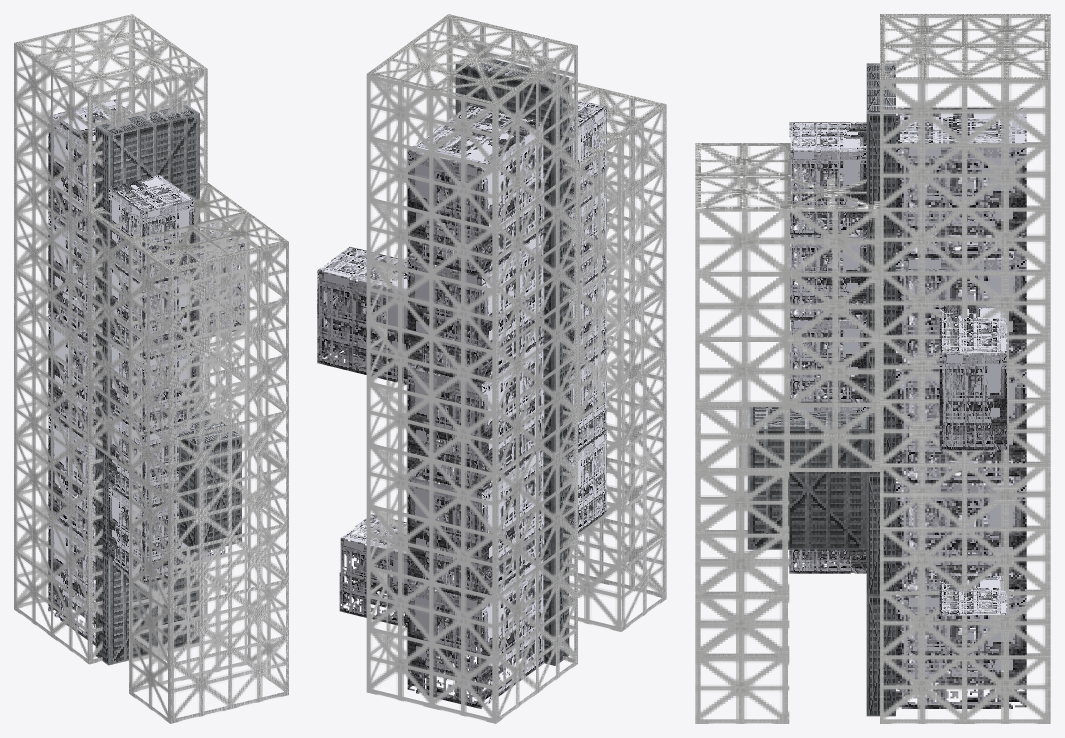
The model's file is uvmd-0138.glb.
The picture shows the model from 3 angles, left to right: view 1: azimuth 30°, elevation 25°; view 2: azimuth 150°, elevation 25°; view 3: azimuth 270°, elevation 25°; orthographic projection. The views are drawn at different scales.
Visible parts, largest first — view 1: uvmd-0138; view 2: uvmd-0138; view 3: uvmd-0138.
Part boxes in pixels (<box>): uvmd-0138: <box>14,14,288,723</box>; uvmd-0138: <box>317,14,666,723</box>; uvmd-0138: <box>695,14,1050,723</box>.
Bounding box in the file's own units: 270 × 800 × 400.
Materials: 3 (3 with a texture image).
